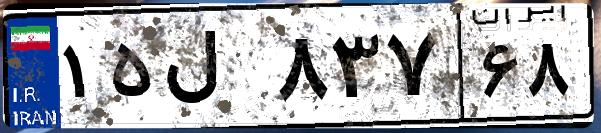1: (57, 26, 110, 100)
3: (330, 28, 385, 110)
5: (110, 28, 158, 98)
6: (475, 38, 525, 113)
7: (385, 28, 445, 110)
8: (270, 28, 330, 110), (525, 38, 570, 115)
ل: (158, 20, 270, 120)
